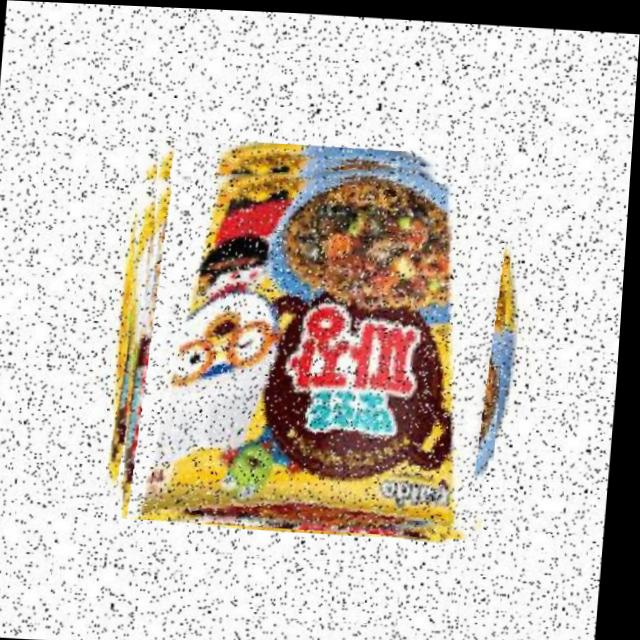Miscellaneous: (114, 137, 520, 536)
